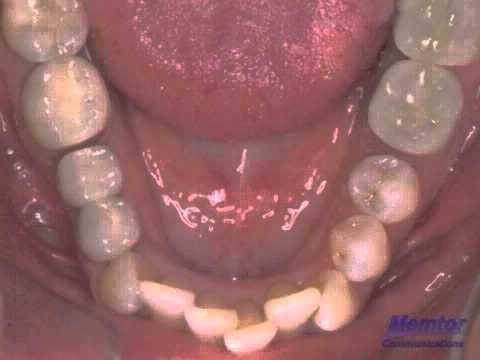LL1BC_decay: (334, 216, 389, 278)
LL1M_decay: (368, 66, 460, 151)
LL2BC_decay: (347, 158, 420, 218)
LL2M_decay: (400, 1, 473, 61)
LLCI_healthy: (233, 312, 274, 350)
LLC_healthy: (318, 271, 357, 328)
LLLI_healthy: (267, 289, 319, 327)
LR1BC_decay: (85, 203, 138, 254)
LR1M_decay: (23, 67, 111, 142)
LR2BC_decay: (67, 149, 118, 201)
LR2M_decay: (10, 2, 88, 56)
LRCI_healthy: (189, 304, 235, 340)
LRC_decay: (104, 255, 139, 310)
LRLI_healthy: (140, 279, 191, 315)
